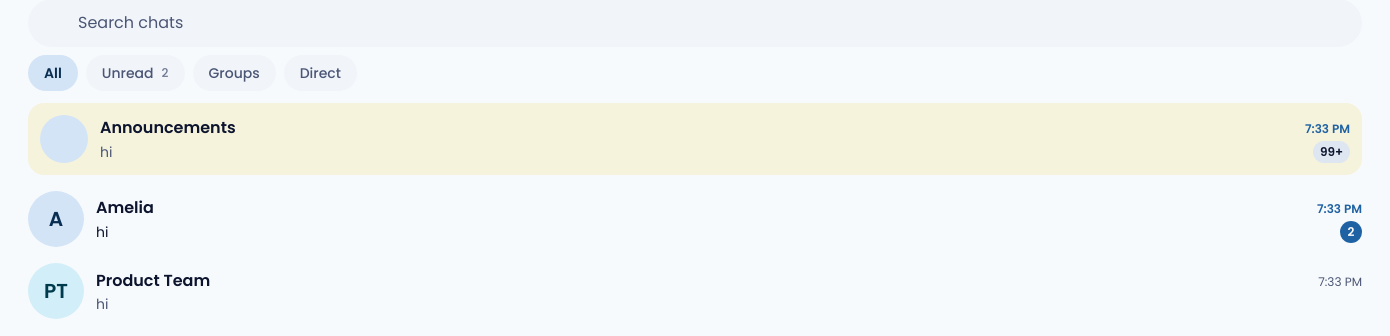
Test: chat list › has filter chips and filters by unread
The width and height of the screenshot is (1390, 336).
Step 1. Click the button "Unread 2" → (135, 73), box [86,55,184,91]
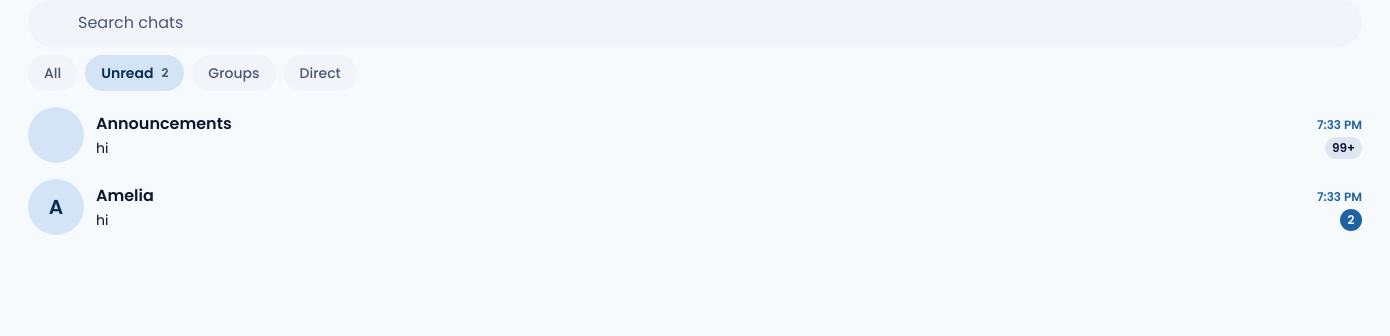
Expected: the text "Amelia" is shown, [96,184,154,206]
Now the button "Product Team" is gone
